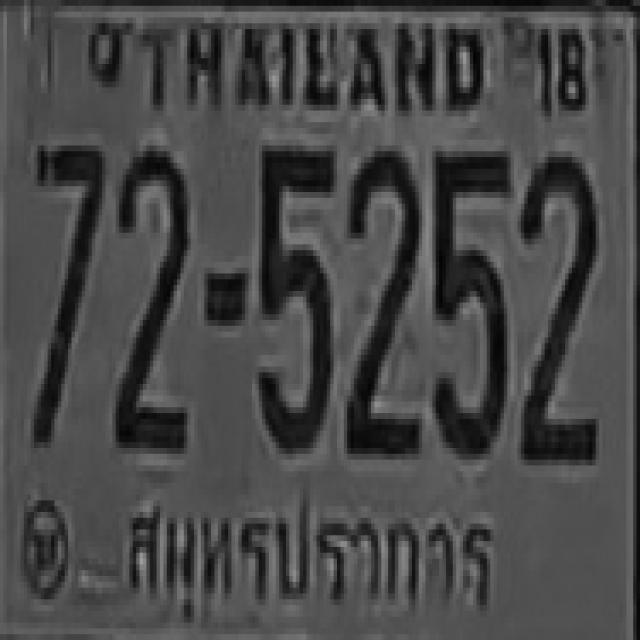2: (516, 148, 594, 457), (344, 142, 419, 451), (114, 140, 186, 448)
5: (429, 145, 507, 454), (254, 140, 332, 448)
7: (31, 140, 102, 442)
SamutPrakan: (116, 486, 510, 632)
